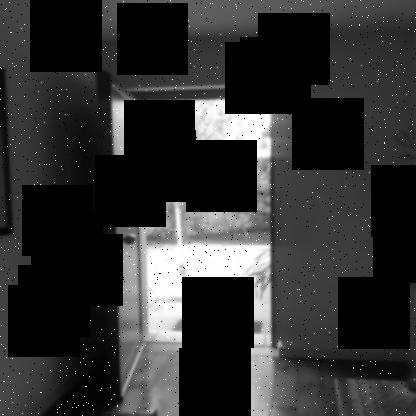Porte: (95, 66, 273, 415)
